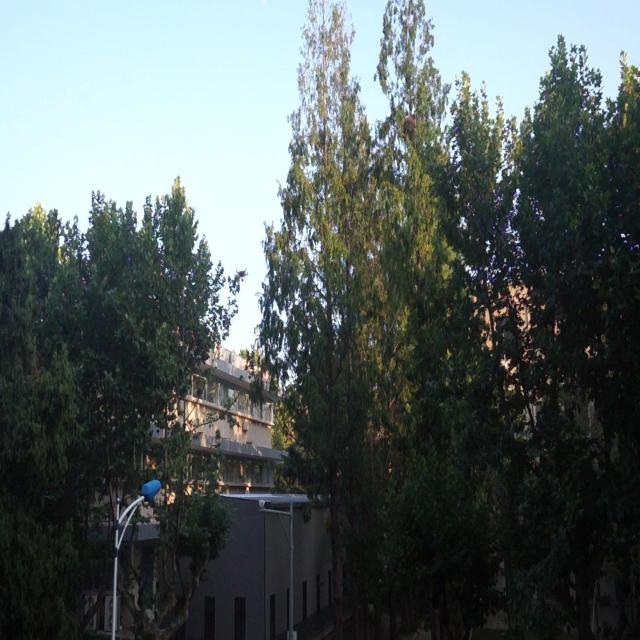drone: (235, 266, 249, 284)
